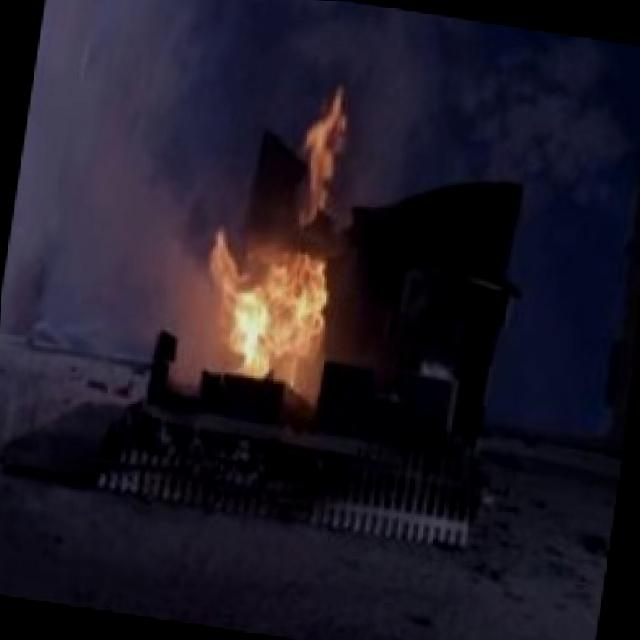fire: (182, 140, 379, 407)
